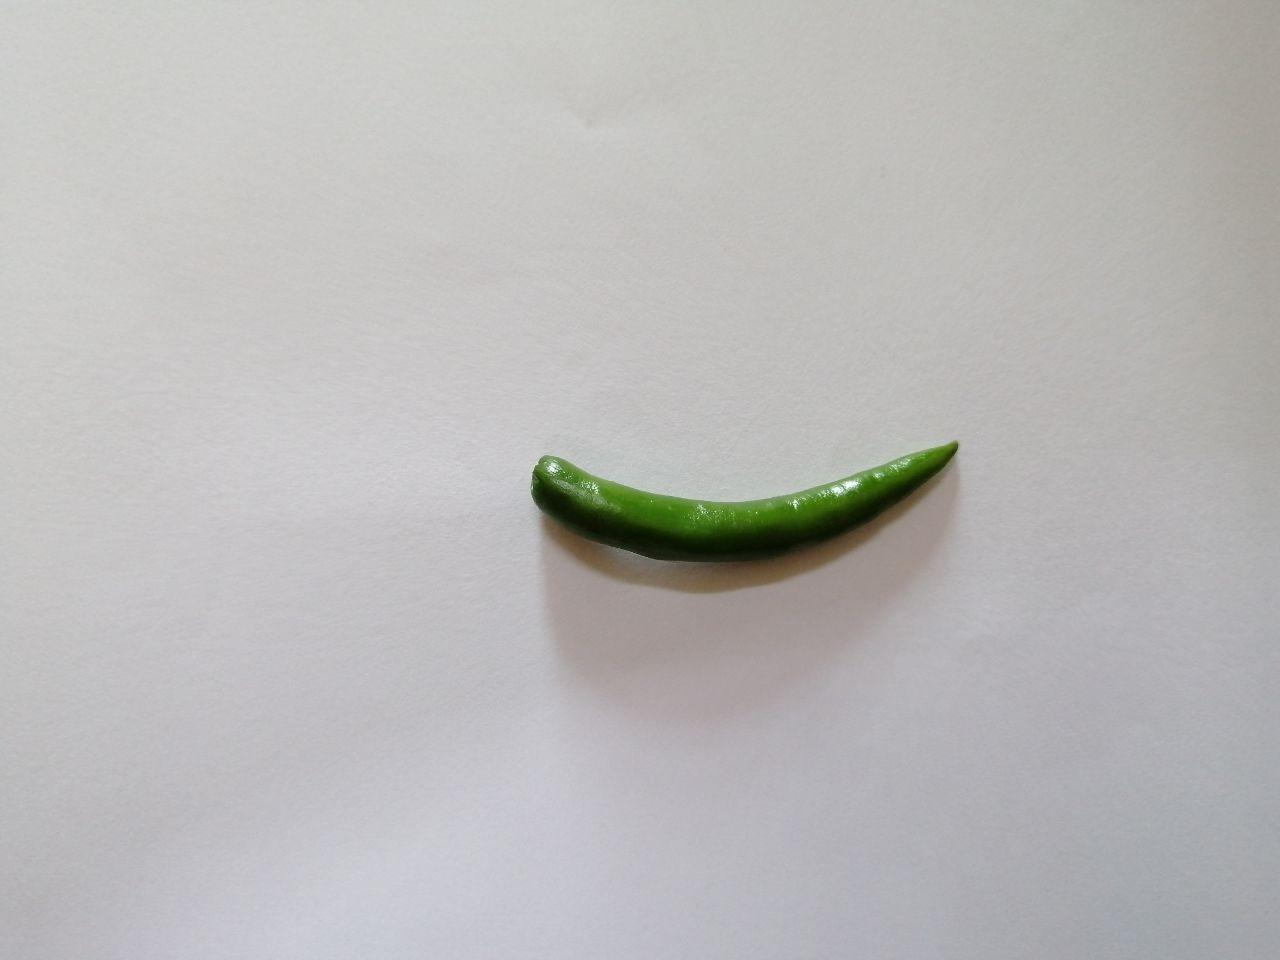lada hijau: (515, 394, 975, 584)
